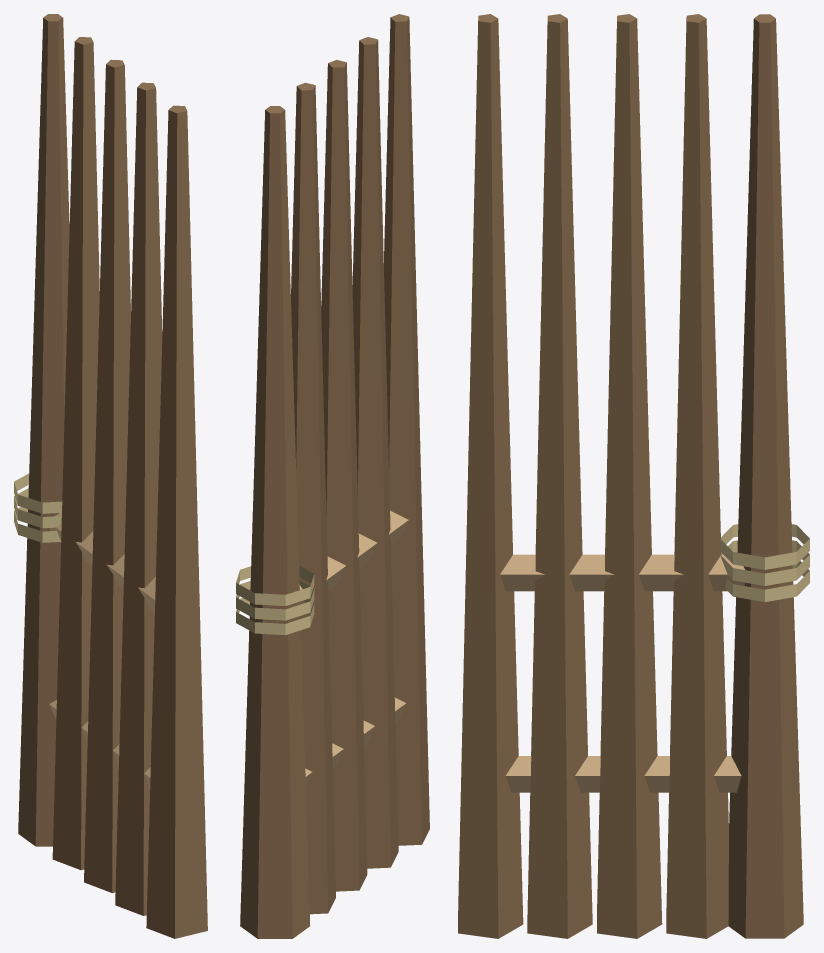
File: palisade_04.glb
3 views of the same model, side by side, from view 1: azimuth 30°, elevation 25°; view 2: azimuth 150°, elevation 25°; view 3: azimuth 270°, elevation 25° (orthographic). The views are drawn at different scales.
Parts seen in each view (by area): view 1: palisade_04; view 2: palisade_04; view 3: palisade_04.
Boxes of the visible parts, left/top/right/bottom form: palisade_04: left=14, top=14, right=207, bottom=938; palisade_04: left=236, top=14, right=429, bottom=938; palisade_04: left=458, top=14, right=809, bottom=938.
Bounding box in the file's own units: 0.162 × 1.8 × 0.6336.
